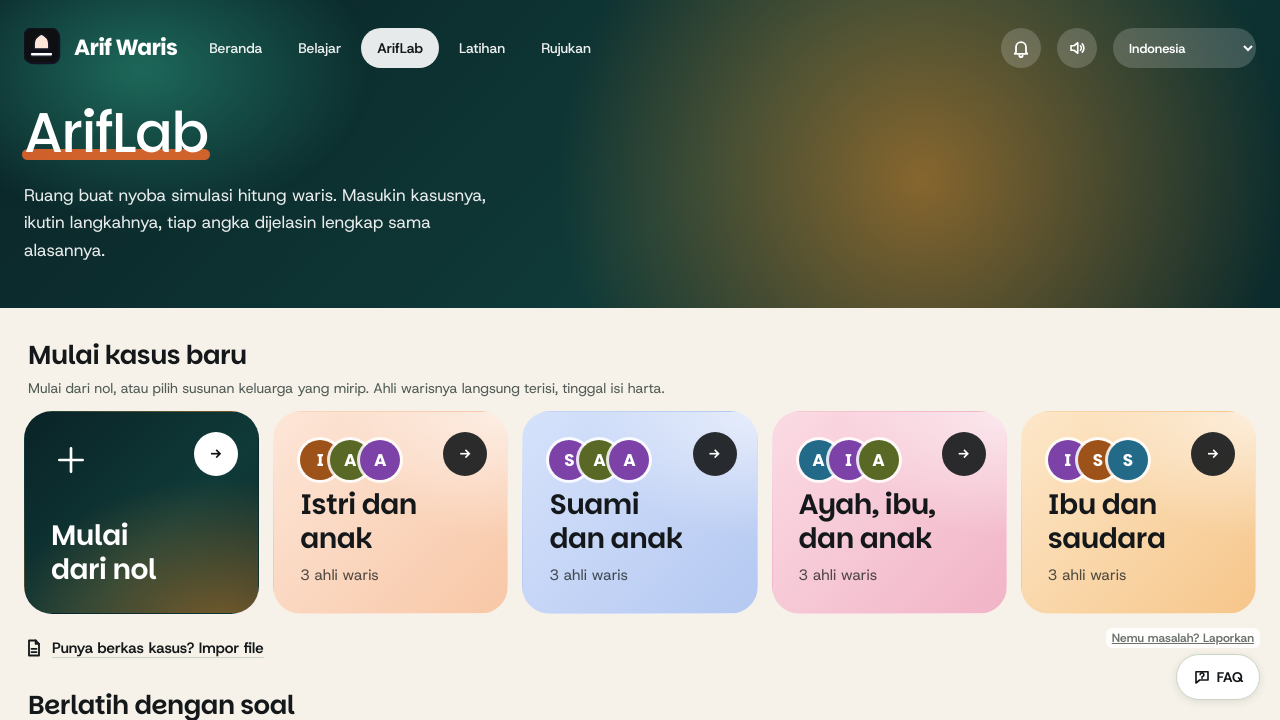
Test: skenario baru langsung membuka langkah pewaris tanpa pilihan bawaan
Click the button "→ Mulai dari nol" at (142, 512), box x1=24 y1=411 x2=259 y2=614
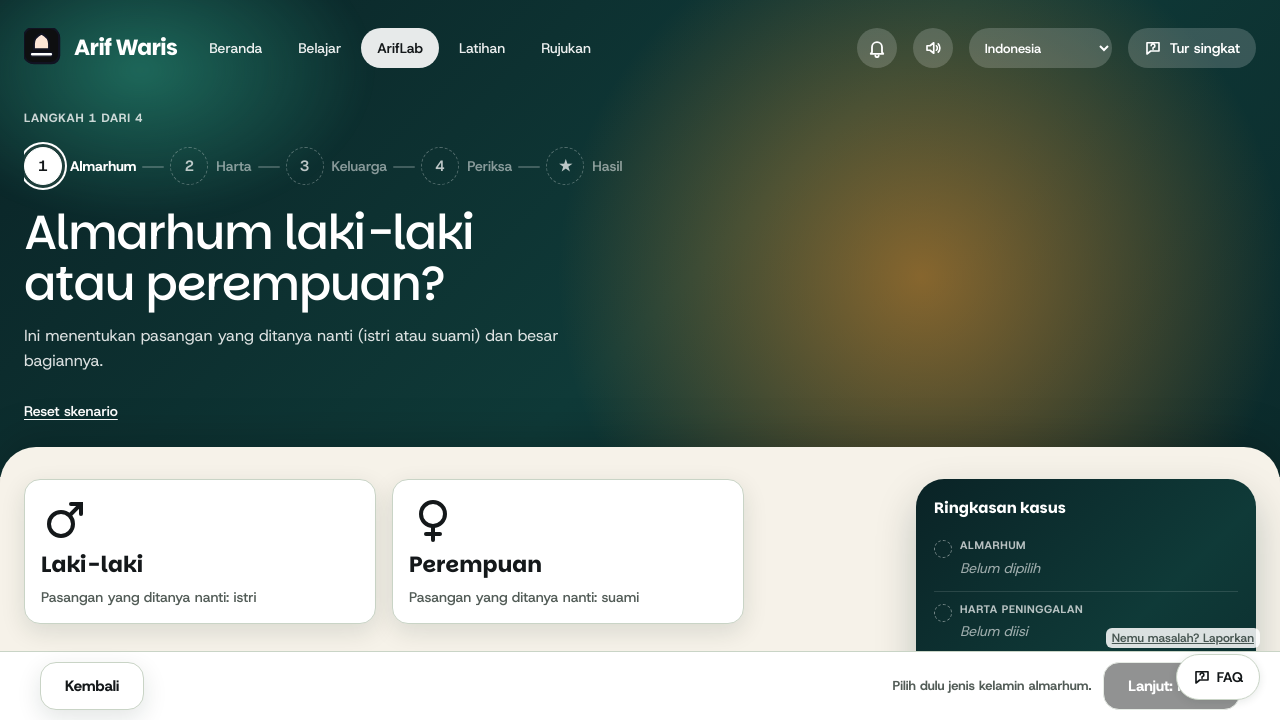
Result: the heading "Almarhum laki-laki atau perempuan?" is shown at x1=24 y1=199 x2=473 y2=317
